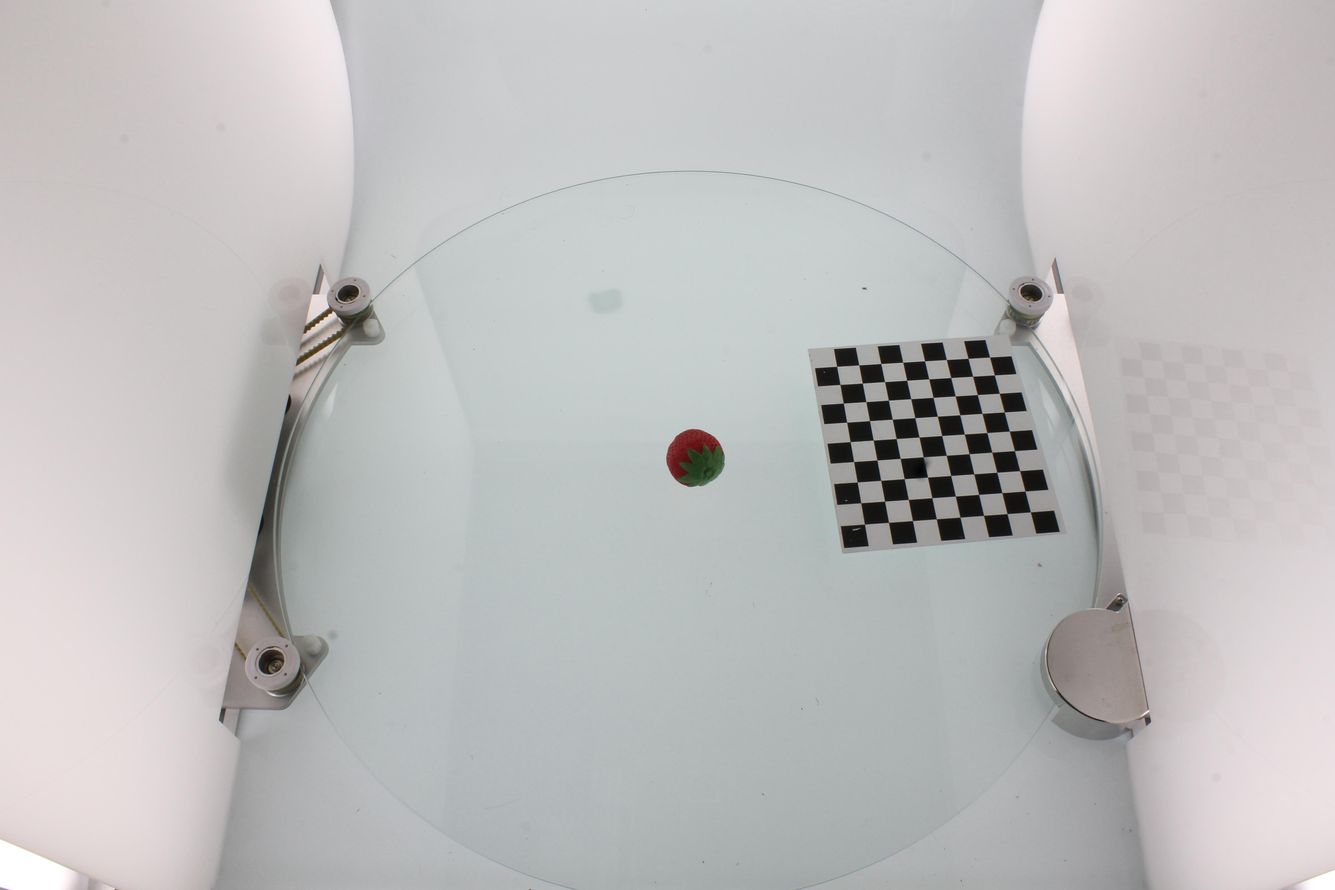strawberry: (667, 429, 724, 487)
